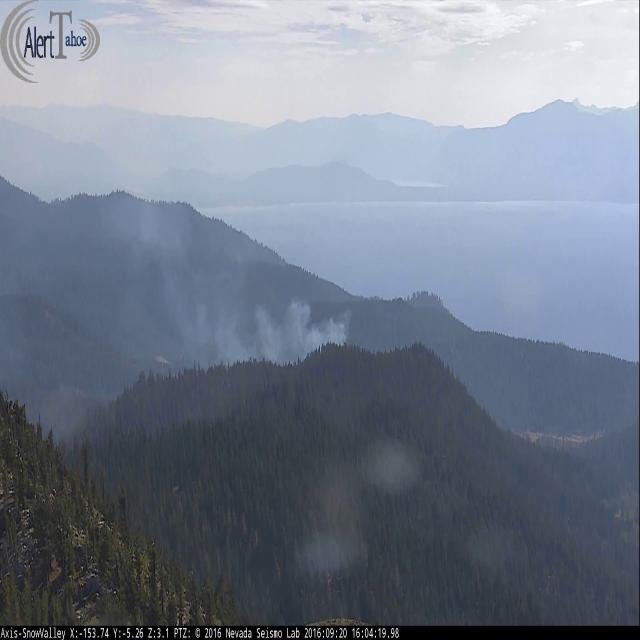smoke: (4, 178, 354, 447)
